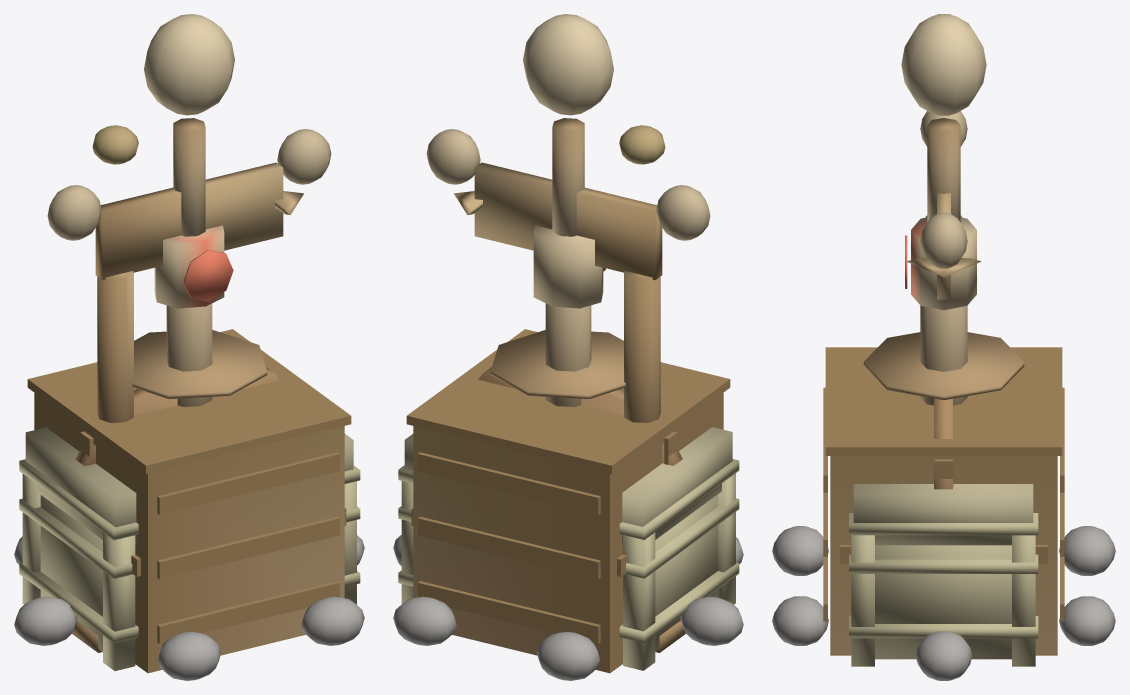
File: props.glb
3 views of the same model, side by side, from view 1: azimuth 30°, elevation 25°; view 2: azimuth 150°, elevation 25°; view 3: azimuth 270°, elevation 25° (orthographic).
Visible parts, largest first — view 1: Crate, TrainingDummy, TreasureChest, Signpost, Campfire, Barrel; view 2: Crate, TrainingDummy, TreasureChest, Signpost, Campfire, Barrel; view 3: Crate, TreasureChest, TrainingDummy, Campfire, Barrel, Signpost.
Boxes of the visible parts, x1,y1,x2,y2 form: Crate: [27, 329, 351, 673]; TrainingDummy: [47, 14, 331, 406]; TreasureChest: [19, 367, 360, 670]; Signpost: [72, 125, 303, 652]; Campfire: [14, 535, 364, 680]; Barrel: [132, 330, 267, 398]; Crate: [406, 329, 730, 673]; TrainingDummy: [426, 14, 710, 406]; TreasureChest: [398, 367, 739, 670]; Signpost: [454, 125, 685, 652]; Campfire: [393, 535, 743, 680]; Barrel: [490, 330, 625, 398]; Crate: [823, 347, 1064, 655]; TreasureChest: [849, 398, 1038, 666]; TrainingDummy: [901, 14, 986, 405]; Campfire: [772, 526, 1115, 680]; Barrel: [863, 332, 1024, 399]; Signpost: [906, 193, 981, 299].
Bounding box in the file's own units: 0.8331 × 1.38 × 0.7262.
